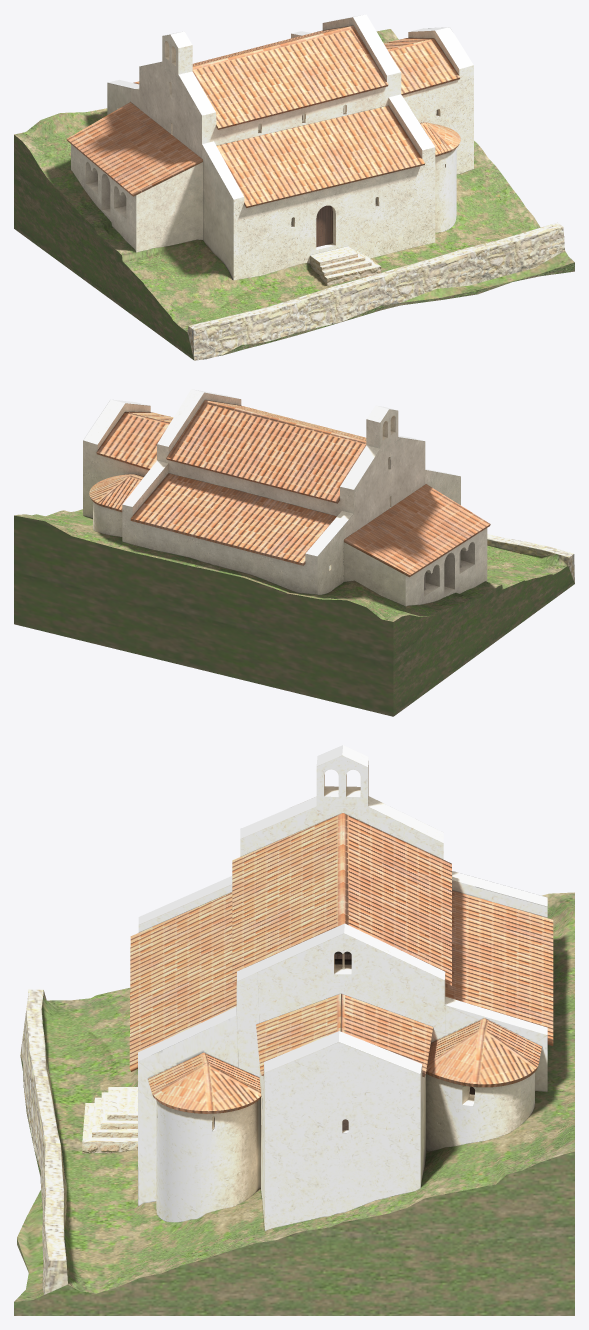
The model's file is pedret_XI.glb.
3 renders of one model, top to bottom at view 1: azimuth 30°, elevation 25°; view 2: azimuth 150°, elevation 25°; view 3: azimuth 270°, elevation 25°, orthographic. The views are drawn at different scales.
Parts seen in each view (by area): view 1: PEDRET_XI-baked-2, PEDRET_XI-baked-1; view 2: PEDRET_XI-baked-2, PEDRET_XI-baked-1; view 3: PEDRET_XI-baked-2, PEDRET_XI-baked-1.
Boxes of the visible parts, x1,y1,x2,y2 form: PEDRET_XI-baked-2: [14, 25, 574, 359]; PEDRET_XI-baked-1: [71, 14, 564, 360]; PEDRET_XI-baked-2: [14, 400, 574, 716]; PEDRET_XI-baked-1: [83, 389, 574, 606]; PEDRET_XI-baked-2: [14, 813, 574, 1315]; PEDRET_XI-baked-1: [20, 745, 547, 1294].
Size of the model in its own units: 21 by 12.3 by 17.78.
Materials: 4 (4 with a texture image).
